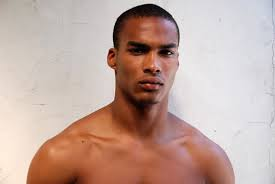black_male: (105, 1, 197, 111)
